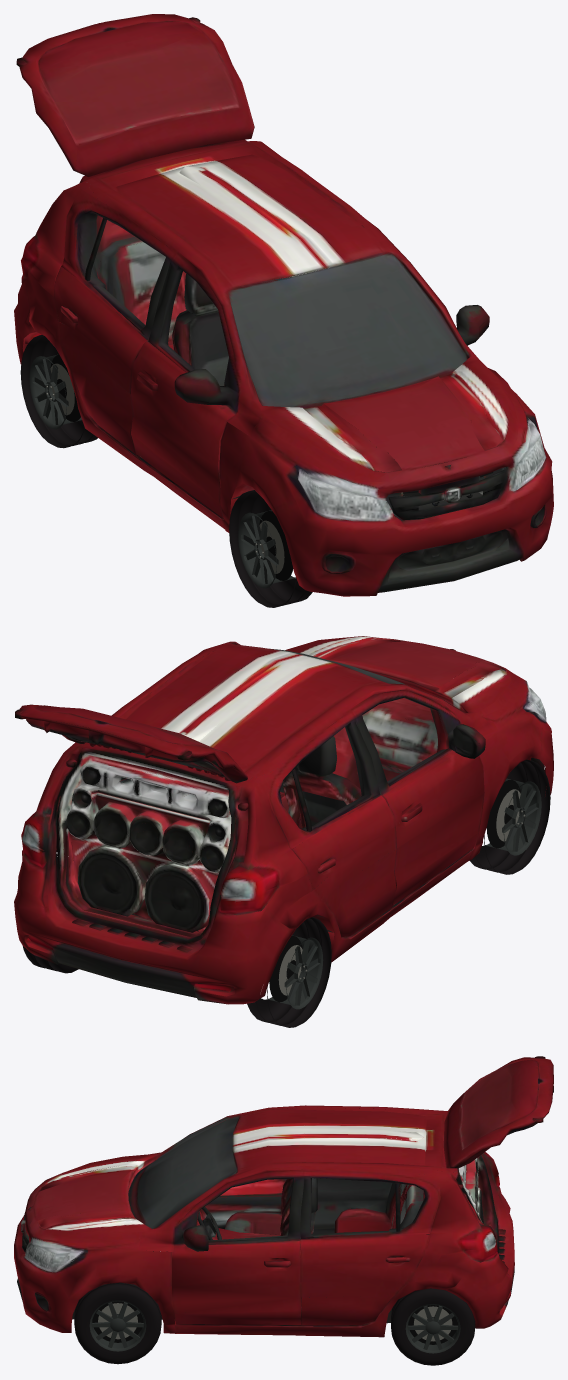
File: som-carro-1.glb
3 views of the same model, one above another, from view 1: azimuth 30°, elevation 25°; view 2: azimuth 150°, elevation 25°; view 3: azimuth 270°, elevation 25° (orthographic). The views are drawn at different scales.
Parts seen in each view (by area): view 1: Som_carro, Tyre_Front_L, Tyre_Rear_L; view 2: Som_carro, Tyre_Front_L, Tyre_Rear_L, Tyre_Rear_R; view 3: Som_carro, Tyre_Front_R, Tyre_Rear_R.
Boxes of the visible parts, left/top/right/bottom form: Som_carro: left=14, top=14, right=553, bottom=596; Tyre_Front_L: left=229, top=490, right=312, bottom=607; Tyre_Rear_L: left=20, top=335, right=97, bottom=448; Som_carro: left=14, top=636, right=553, bottom=1004; Tyre_Front_L: left=470, top=759, right=550, bottom=874; Tyre_Rear_L: left=247, top=917, right=331, bottom=1027; Tyre_Rear_R: left=23, top=857, right=78, bottom=973; Som_carro: left=14, top=1056, right=553, bottom=1337; Tyre_Front_R: left=74, top=1282, right=161, bottom=1364; Tyre_Rear_R: left=391, top=1288, right=475, bottom=1365.
Bounding box in the file's own units: 1.92 × 1.97 × 4.
1 material, 1 textured.
